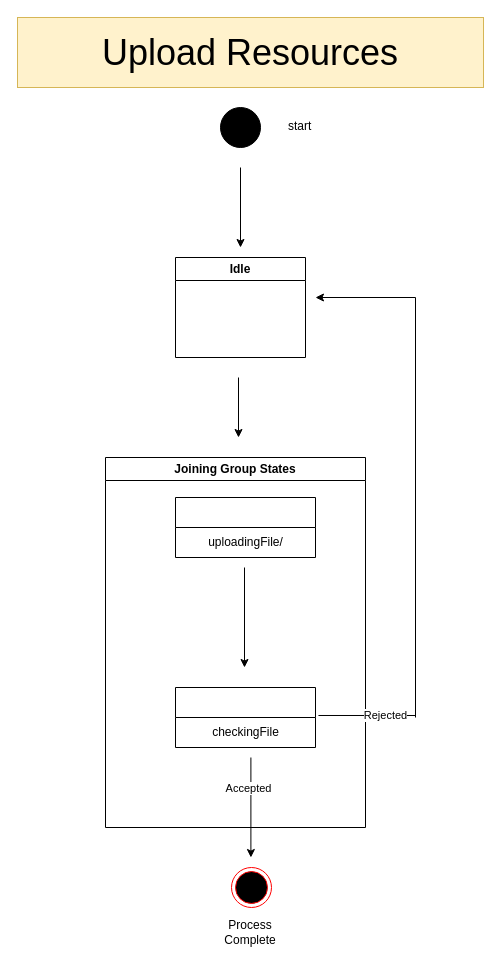
The diagram is 501 pixels wide and 965 high, and some of its shapes have lost their labels. Each missing label, with the box of its shape:
Admin verification: (174, 686, 316, 748)
Choose file to upload: (174, 496, 316, 558)
